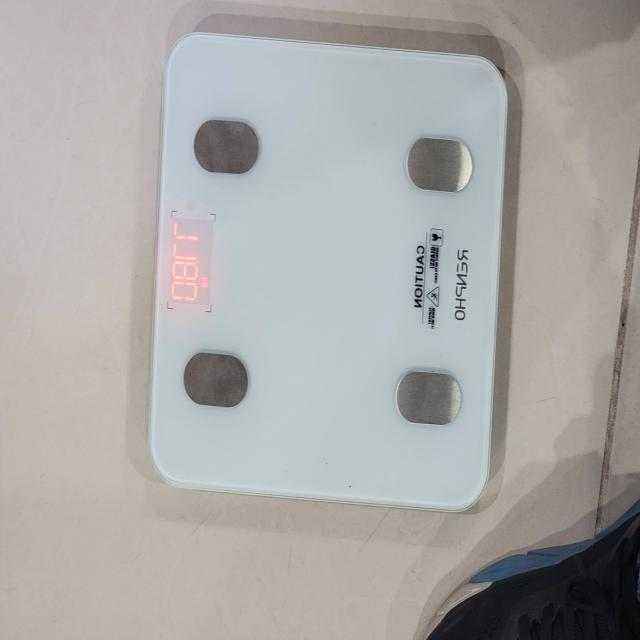ws: (129, 6, 528, 518)
